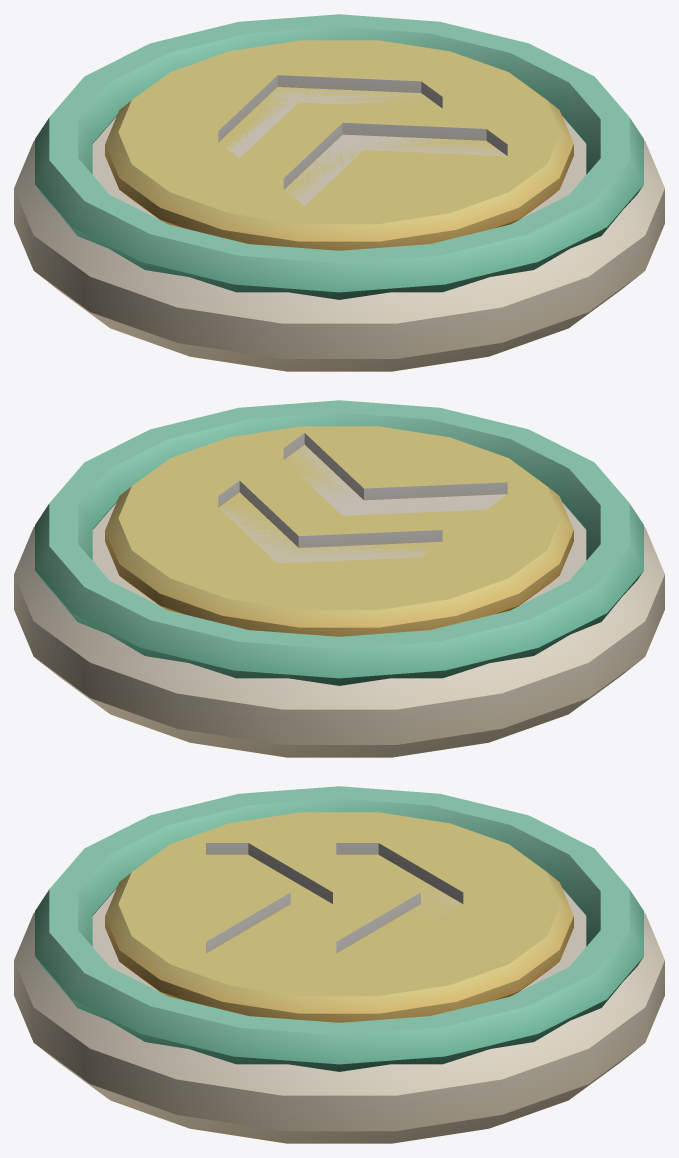
The model's file is obstacle_jump_pad.glb.
3 renders of one model, top to bottom at view 1: azimuth 30°, elevation 25°; view 2: azimuth 150°, elevation 25°; view 3: azimuth 270°, elevation 25°, orthographic.
Parts seen in each view (by area): view 1: PadBase, PadSpring; view 2: PadBase, PadSpring; view 3: PadBase, PadSpring.
Part boxes in pixels (x1,y1,x2,y2): PadBase: [14, 14, 664, 371]; PadSpring: [105, 40, 573, 250]; PadBase: [14, 400, 664, 757]; PadSpring: [105, 426, 573, 636]; PadBase: [14, 786, 664, 1143]; PadSpring: [105, 812, 573, 1022].
Size of the model in its own units: 1.97 by 0.43 by 2.
